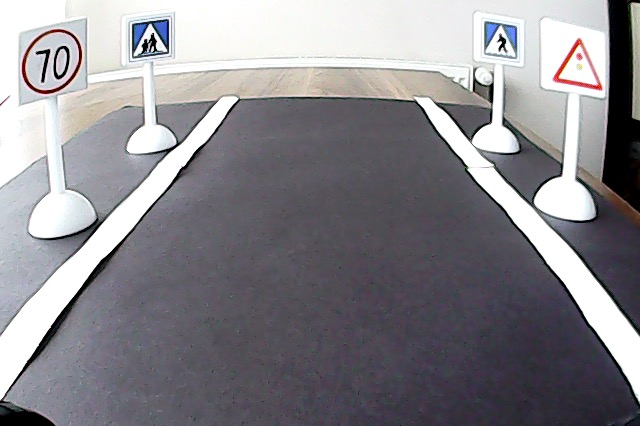pedestrian crossing: (480, 20, 519, 58)
red light: (547, 29, 605, 94)
school crossing: (128, 16, 173, 65)
speed limit 70: (20, 28, 82, 103)
